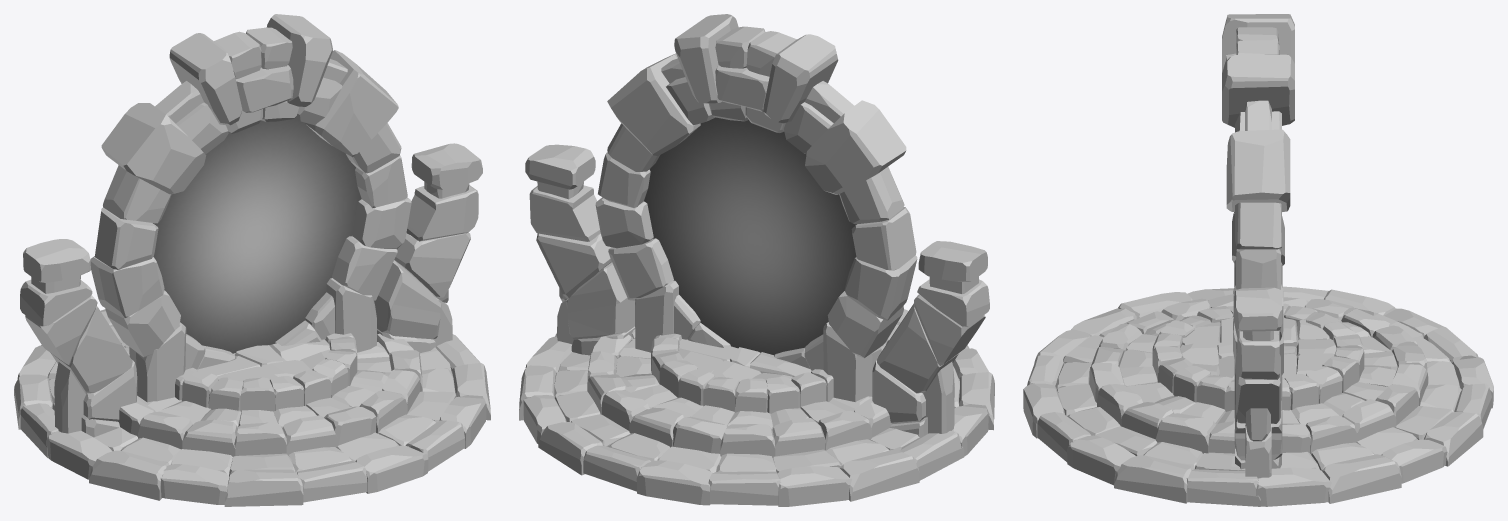
The model's file is Portal01.fbx.
3 renders of one model, left to right at view 1: azimuth 30°, elevation 25°; view 2: azimuth 150°, elevation 25°; view 3: azimuth 270°, elevation 25°, orthographic.
Parts seen in each view (by area): view 1: LOD0; view 2: LOD0; view 3: LOD0.
Boxes of the visible parts, <box> form: LOD0: <box>14,14,490,506</box>; LOD0: <box>519,14,994,506</box>; LOD0: <box>1023,14,1493,506</box>.
Size of what is drawn, in the model's own units: 829 by 769 by 672.
